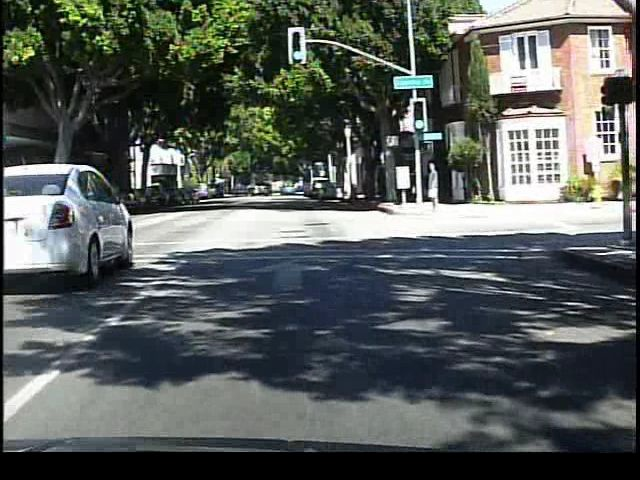person: (423, 158, 444, 215)
